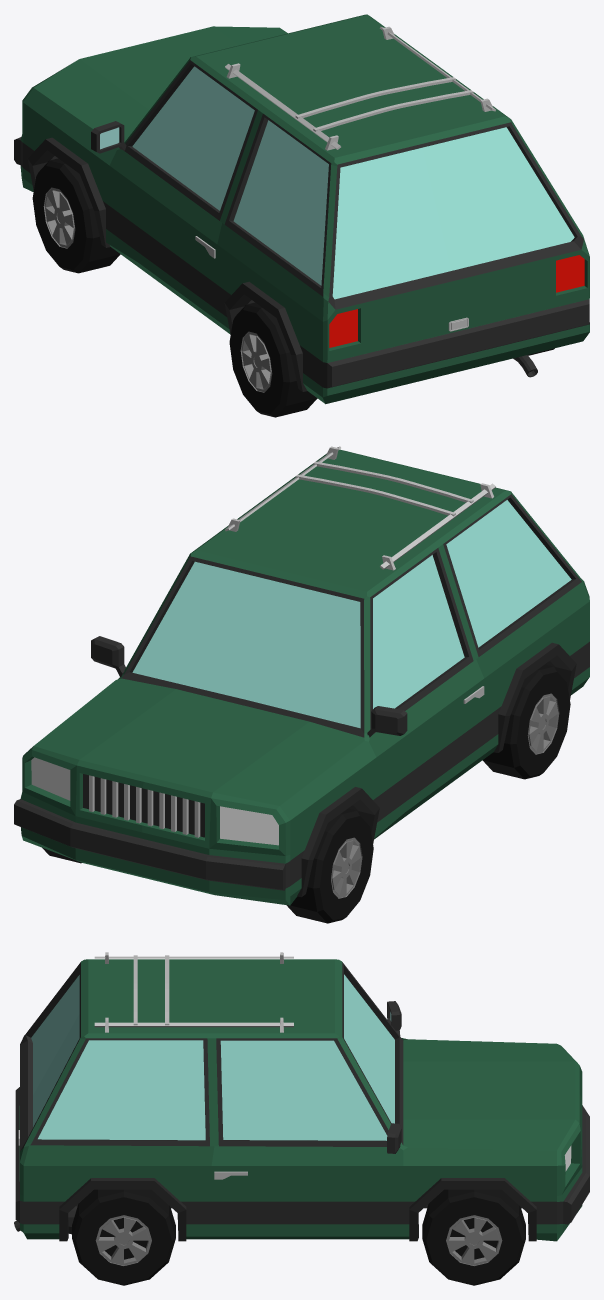
File: suv.fbx
3 views of the same model, one above another, from view 1: azimuth 30°, elevation 25°; view 2: azimuth 150°, elevation 25°; view 3: azimuth 270°, elevation 25° (orthographic). The views are drawn at different scales.
Visible parts, largest first — view 1: Body, Wheel4, Wheel3, WheelContainer, Roof Holder, Mirror, Roof Plate, Roof Plate.001; view 2: Body, Wheel3, Wheel4, WheelContainer, Mirror, Roof Holder, Roof Plate.001, Roof Plate; view 3: Body, Wheel2, Wheel1, WheelContainer, Roof Holder, Mirror.
Boxes of the visible parts, box(x1,y1,x2,y2) form: Body: box(14, 14, 589, 404); Wheel4: box(32, 158, 120, 273); Wheel3: box(229, 302, 317, 417); WheelContainer: box(27, 137, 307, 391); Roof Holder: box(225, 26, 495, 150); Mirror: box(91, 121, 126, 153); Roof Plate: box(313, 90, 473, 131); Roof Plate.001: box(295, 77, 455, 118); Body: box(14, 449, 589, 905); Wheel3: box(482, 664, 570, 779); Wheel4: box(286, 808, 373, 923); WheelContainer: box(297, 642, 576, 897); Mirror: box(91, 636, 407, 737); Roof Holder: box(225, 446, 495, 570); Roof Plate.001: box(295, 474, 455, 516); Roof Plate: box(313, 461, 473, 503); Body: box(15, 959, 589, 1241); Wheel2: box(422, 1189, 525, 1285); Wheel1: box(72, 1189, 175, 1285); WheelContainer: box(59, 1178, 536, 1241); Roof Holder: box(94, 952, 293, 1032); Mirror: box(387, 1001, 401, 1153).
Size of the model in its own units: 268 by 220 by 481.
